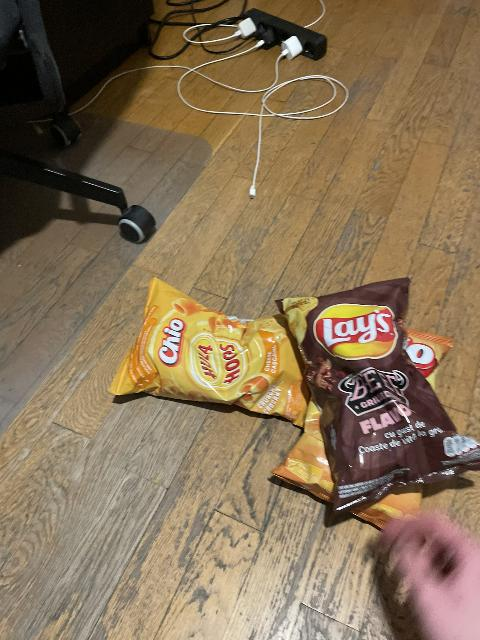Chio Cascaval 125g: (277, 323, 457, 542)
Chio Hula Hoops Cheese 70g: (105, 275, 306, 426)
Lays Beef Grilled Ribs 125g: (277, 274, 480, 524)
